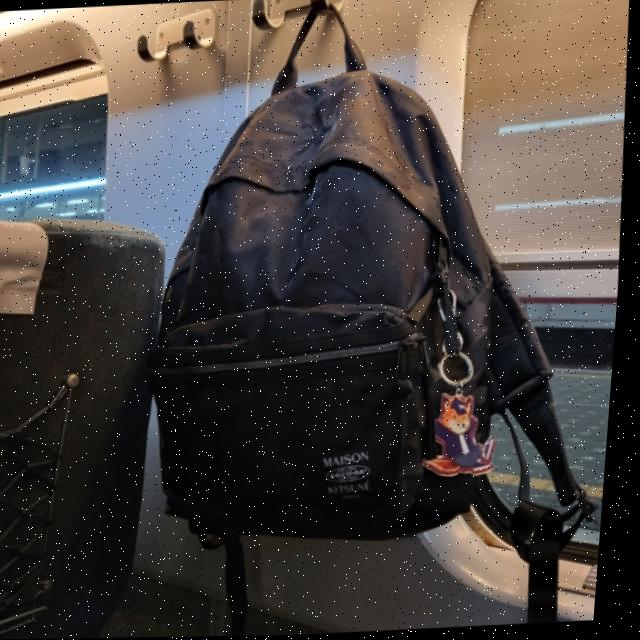backpack: (115, 23, 620, 582)
